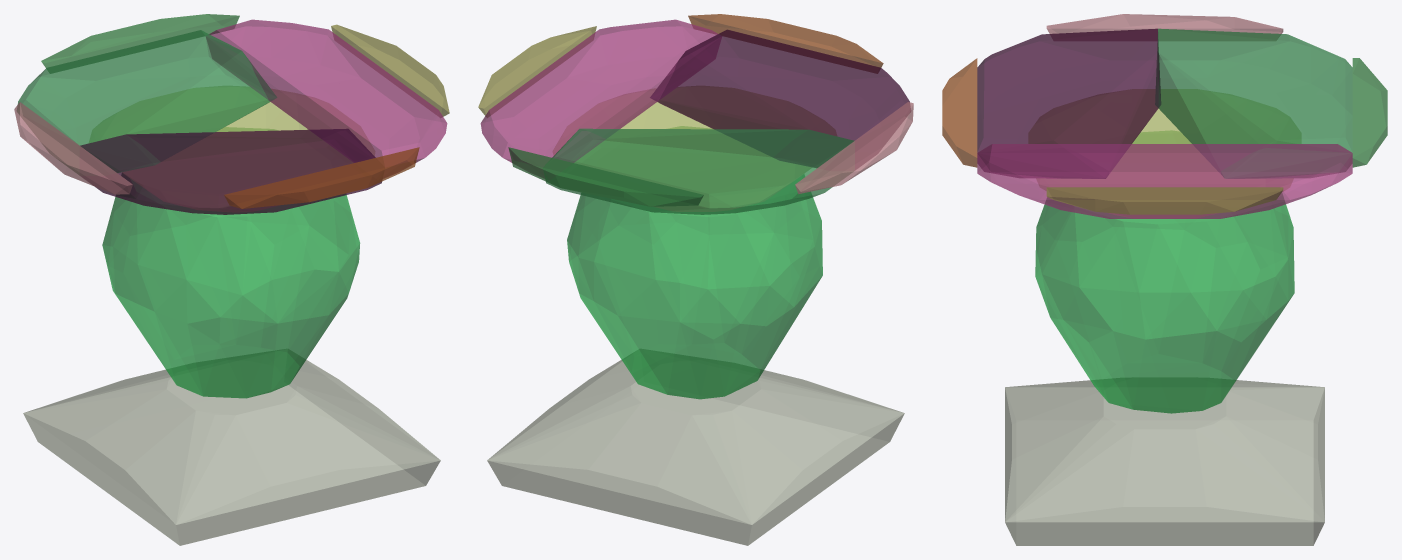
The picture shows the model from 3 angles, left to right: view 1: azimuth 30°, elevation 25°; view 2: azimuth 150°, elevation 25°; view 3: azimuth 270°, elevation 25°; orthographic projection. The views are drawn at different scales.
Visible parts, largest first — view 1: Shape_IndexedFaceSet, Shape_IndexedFaceSet.001, Shape_IndexedFaceSet.008, Shape_IndexedFaceSet.009, Shape_IndexedFaceSet.007, Shape_IndexedFaceSet.002, Shape_IndexedFaceSet.005, Shape_IndexedFaceSet.003, Shape_IndexedFaceSet.006, Shape_IndexedFaceSet.004; view 2: Shape_IndexedFaceSet, Shape_IndexedFaceSet.001, Shape_IndexedFaceSet.009, Shape_IndexedFaceSet.008, Shape_IndexedFaceSet.002, Shape_IndexedFaceSet.007, Shape_IndexedFaceSet.005, Shape_IndexedFaceSet.003, Shape_IndexedFaceSet.006, Shape_IndexedFaceSet.004; view 3: Shape_IndexedFaceSet, Shape_IndexedFaceSet.001, Shape_IndexedFaceSet.008, Shape_IndexedFaceSet.009, Shape_IndexedFaceSet.007, Shape_IndexedFaceSet.002, Shape_IndexedFaceSet.006, Shape_IndexedFaceSet.004, Shape_IndexedFaceSet.003, Shape_IndexedFaceSet.005.
Part boxes in pixels (x1,y1,x2,y2): Shape_IndexedFaceSet: (23,349,440,545); Shape_IndexedFaceSet.001: (102,127,360,398); Shape_IndexedFaceSet.008: (17,30,276,174); Shape_IndexedFaceSet.009: (80,128,383,214); Shape_IndexedFaceSet.007: (206,19,447,177); Shape_IndexedFaceSet.002: (89,86,374,211); Shape_IndexedFaceSet.005: (224,147,419,208); Shape_IndexedFaceSet.003: (41,14,239,73); Shape_IndexedFaceSet.006: (331,24,449,117); Shape_IndexedFaceSet.004: (14,102,132,194); Shape_IndexedFaceSet: (487,349,904,545); Shape_IndexedFaceSet.001: (567,126,822,399); Shape_IndexedFaceSet.009: (650,29,910,169); Shape_IndexedFaceSet.008: (544,128,854,214); Shape_IndexedFaceSet.002: (553,86,836,211); Shape_IndexedFaceSet.007: (480,19,721,177); Shape_IndexedFaceSet.005: (688,14,883,73); Shape_IndexedFaceSet.003: (508,147,703,206); Shape_IndexedFaceSet.006: (478,26,596,117); Shape_IndexedFaceSet.004: (795,102,913,193); Shape_IndexedFaceSet: (1005,378,1324,545); Shape_IndexedFaceSet.001: (1035,131,1294,413); Shape_IndexedFaceSet.008: (1155,28,1352,178); Shape_IndexedFaceSet.009: (977,28,1160,178); Shape_IndexedFaceSet.007: (977,144,1352,218); Shape_IndexedFaceSet.002: (1029,89,1300,217); Shape_IndexedFaceSet.006: (1046,187,1283,214); Shape_IndexedFaceSet.004: (1046,14,1283,40); Shape_IndexedFaceSet.003: (1352,58,1387,167); Shape_IndexedFaceSet.005: (942,58,977,167).
Size of the model in its own units: 0.5974 by 0.5554 by 0.5974.
